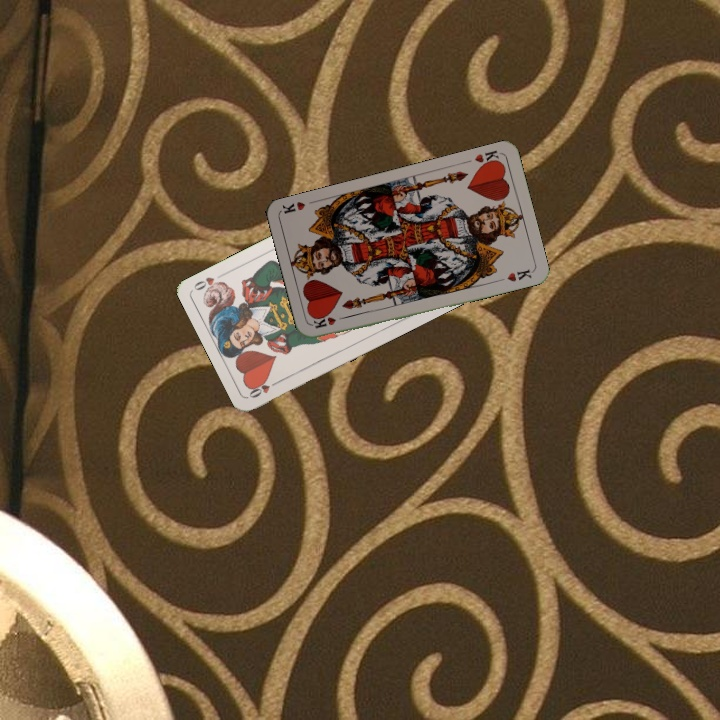HK: (471, 146, 503, 170), (310, 312, 350, 331)
HO: (245, 376, 283, 401)
